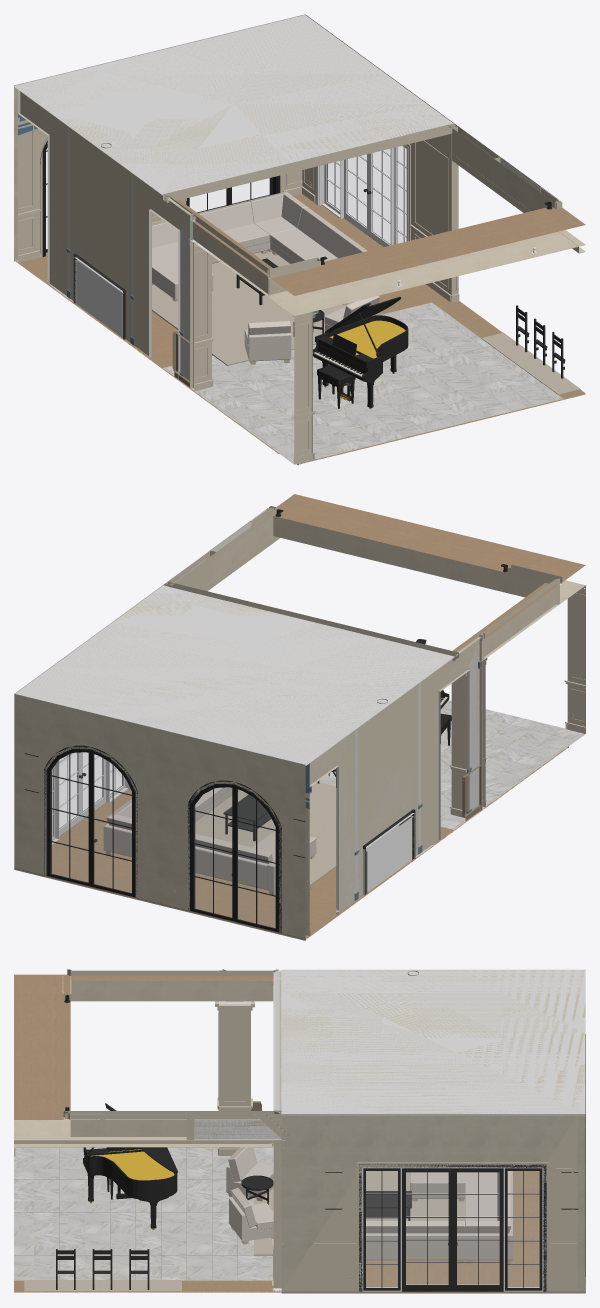
Rendered from family-room-7663ba7f53f7.glb.
3 views of the same model, one above another, from view 1: azimuth 30°, elevation 25°; view 2: azimuth 150°, elevation 25°; view 3: azimuth 270°, elevation 25° (orthographic).
Parts seen in each view (by area): view 1: family-room-4a969f5cc1ae3dfe, family-room-ba376bd68a22f7f3, family-room-50d54560d247b537, family-room-2575515a05775d9e, family-room-9d80b152e3f2ea10, family-room-3d5fbc3a2a5f9c05, family-room-3b0077416469e01b, family-room-88f8978e186bf417, family-room-1a893a20b01c9fd3, family-room-55ff1dfd7b659ec1, family-room-969b861f9850351e, family-room-e706aa16b4547c37 (+21 smaller); view 2: family-room-4a969f5cc1ae3dfe, family-room-969b861f9850351e, family-room-9d80b152e3f2ea10, family-room-2575515a05775d9e, family-room-316290d012168088, family-room-b57b1dfcc6ff1bca, family-room-50d54560d247b537, family-room-3b0077416469e01b, family-room-55ff1dfd7b659ec1, family-room-ba376bd68a22f7f3, family-room-88f8978e186bf417, family-room-3d5fbc3a2a5f9c05 (+13 smaller); view 3: family-room-4a969f5cc1ae3dfe, family-room-e706aa16b4547c37, family-room-ba376bd68a22f7f3, family-room-3d5fbc3a2a5f9c05, family-room-50d54560d247b537, family-room-2575515a05775d9e, family-room-3b0077416469e01b, family-room-0bd714ee3619f5b4, family-room-1a893a20b01c9fd3, family-room-d20359ea22d8532c, family-room-65a368b7809647e4, family-room-a8ea7d4d2b17a47a (+22 smaller).
Boxes of the visible parts, x1=… form: family-room-4a969f5cc1ae3dfe: x1=14, y1=15, x2=453, y2=195; family-room-ba376bd68a22f7f3: x1=163, y1=302, x2=563, y2=463; family-room-50d54560d247b537: x1=14, y1=14, x2=454, y2=194; family-room-2575515a05775d9e: x1=191, y1=162, x2=585, y2=315; family-room-9d80b152e3f2ea10: x1=20, y1=91, x2=190, y2=380; family-room-3d5fbc3a2a5f9c05: x1=316, y1=145, x2=408, y2=246; family-room-3b0077416469e01b: x1=14, y1=194, x2=585, y2=464; family-room-88f8978e186bf417: x1=152, y1=251, x2=384, y2=365; family-room-1a893a20b01c9fd3: x1=313, y1=297, x2=408, y2=409; family-room-55ff1dfd7b659ec1: x1=18, y1=90, x2=189, y2=380; family-room-969b861f9850351e: x1=14, y1=87, x2=302, y2=262; family-room-e706aa16b4547c37: x1=302, y1=134, x2=447, y2=291; family-room-4a969f5cc1ae3dfe: x1=14, y1=585, x2=454, y2=765; family-room-969b861f9850351e: x1=14, y1=695, x2=309, y2=938; family-room-9d80b152e3f2ea10: x1=309, y1=639, x2=479, y2=912; family-room-2575515a05775d9e: x1=206, y1=494, x2=585, y2=660; family-room-316290d012168088: x1=187, y1=780, x2=281, y2=932; family-room-b57b1dfcc6ff1bca: x1=44, y1=745, x2=137, y2=897; family-room-50d54560d247b537: x1=14, y1=584, x2=445, y2=765; family-room-3b0077416469e01b: x1=14, y1=746, x2=568, y2=939; family-room-55ff1dfd7b659ec1: x1=309, y1=637, x2=481, y2=913; family-room-ba376bd68a22f7f3: x1=319, y1=700, x2=584, y2=829; family-room-88f8978e186bf417: x1=195, y1=782, x2=336, y2=885; family-room-3d5fbc3a2a5f9c05: x1=52, y1=752, x2=130, y2=844; family-room-4a969f5cc1ae3dfe: x1=281, y1=969, x2=585, y2=1115; family-room-e706aa16b4547c37: x1=281, y1=1115, x2=577, y2=1291; family-room-ba376bd68a22f7f3: x1=14, y1=1147, x2=273, y2=1280; family-room-3d5fbc3a2a5f9c05: x1=359, y1=1164, x2=546, y2=1291; family-room-50d54560d247b537: x1=281, y1=969, x2=585, y2=1114; family-room-2575515a05775d9e: x1=14, y1=974, x2=193, y2=1136; family-room-3b0077416469e01b: x1=14, y1=1171, x2=585, y2=1292; family-room-0bd714ee3619f5b4: x1=70, y1=976, x2=273, y2=1001; family-room-1a893a20b01c9fd3: x1=83, y1=1103, x2=177, y2=1229; family-room-d20359ea22d8532c: x1=366, y1=1221, x2=465, y2=1263; family-room-65a368b7809647e4: x1=219, y1=1001, x2=250, y2=1148; family-room-a8ea7d4d2b17a47a: x1=14, y1=1136, x2=273, y2=1147.
Bounding box in the file's own units: 6.16 × 3.56 × 10.26.
46 materials, 7 textured.
